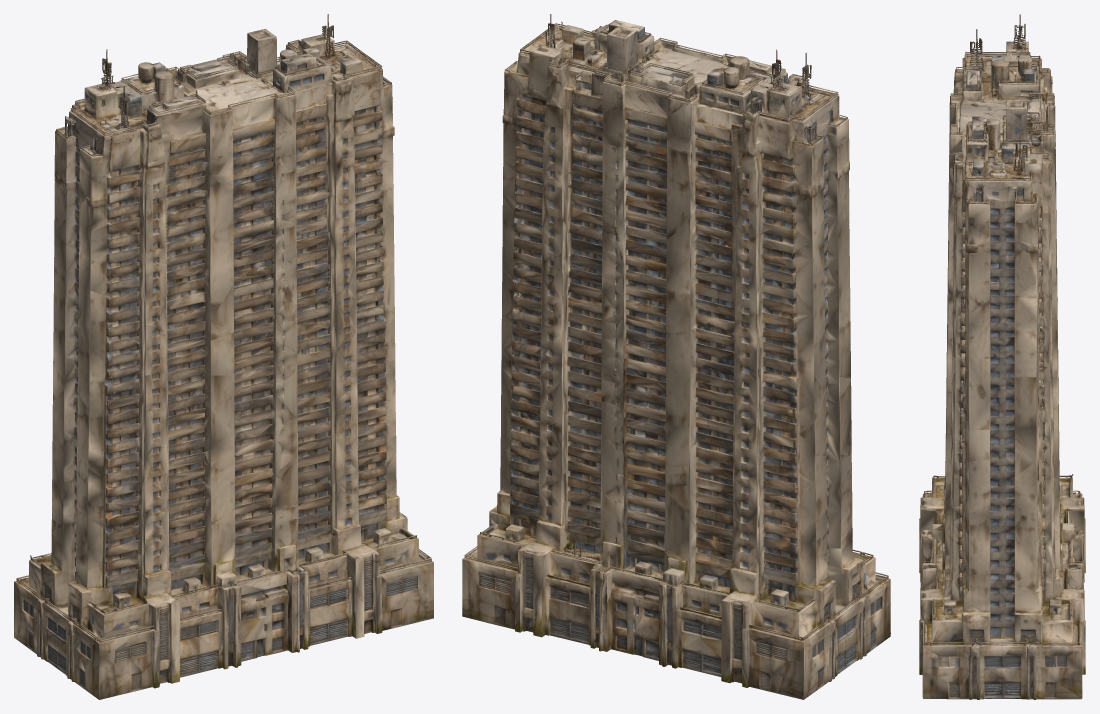
Rendered from sentinel_cerca.glb.
3 renders of one model, left to right at view 1: azimuth 30°, elevation 25°; view 2: azimuth 150°, elevation 25°; view 3: azimuth 270°, elevation 25°, orthographic. The views are drawn at different scales.
Visible parts, largest first — view 1: sentinel_cerca; view 2: sentinel_cerca; view 3: sentinel_cerca.
Part boxes in pixels (<box>): sentinel_cerca: <box>14,14,433,699</box>; sentinel_cerca: <box>462,14,890,699</box>; sentinel_cerca: <box>919,14,1085,699</box>.
Bounding box in the file's own units: 89.09 × 150 × 40.41.
1 material, 1 textured.
